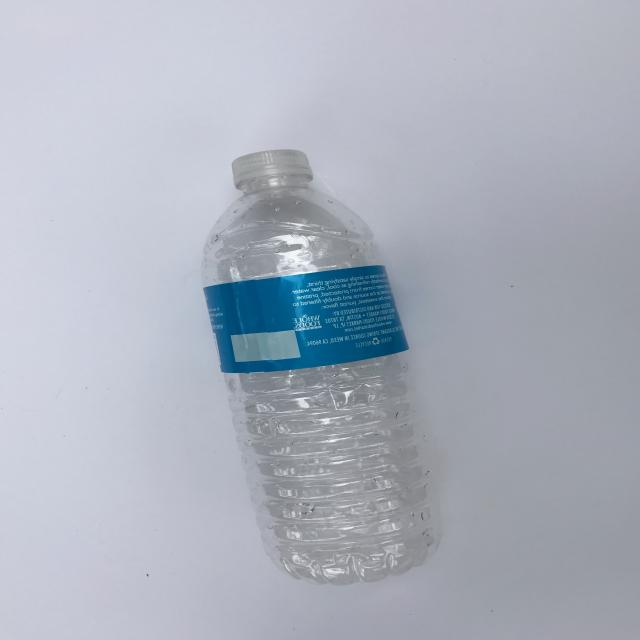plastic: (200, 148, 444, 585)
